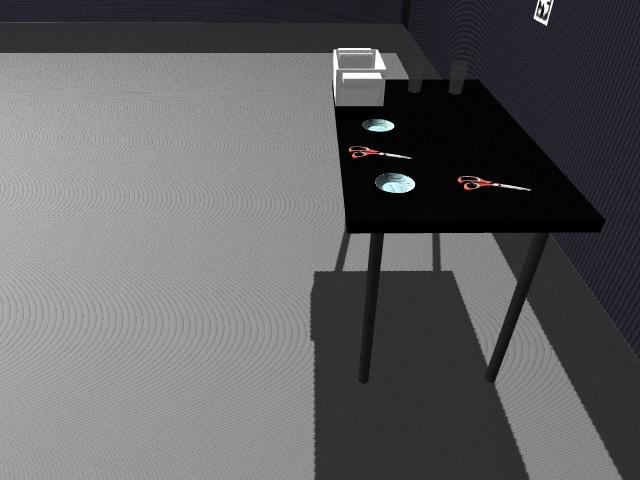cup: (449, 60, 469, 95), (407, 69, 423, 94)
plate: (374, 173, 416, 194), (361, 118, 396, 133)
scissors: (459, 175, 531, 192), (348, 145, 411, 161)
